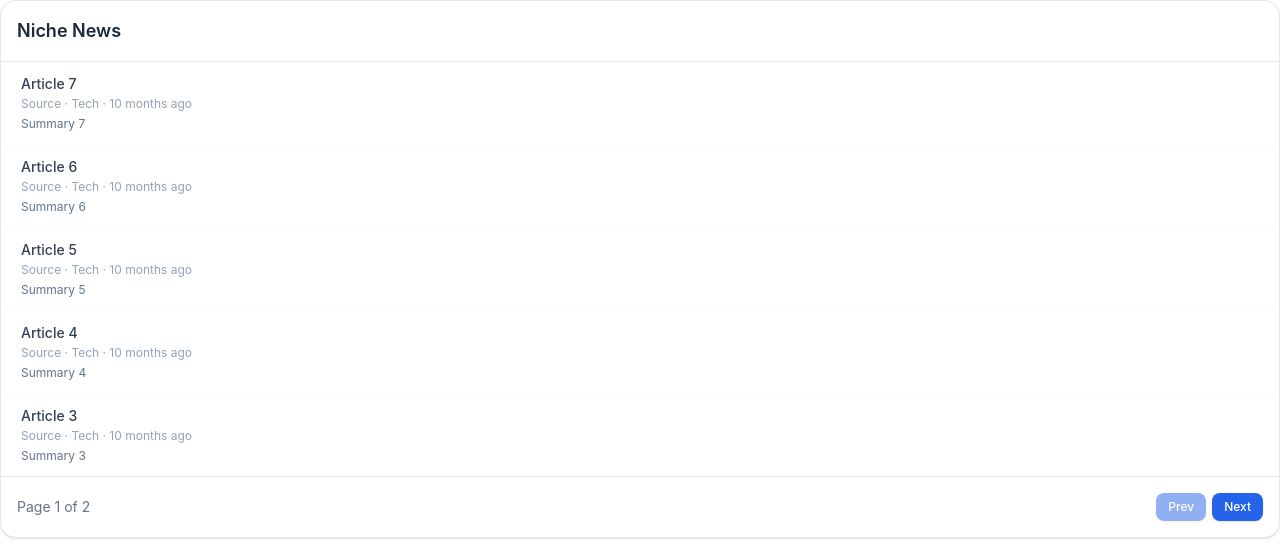
Test: NicheNewsBlock › pagination › shows 2 items and 'Page 2 of 2' after clicking Next
Click the button "Next" at [1238, 507], box x1=1212 y1=493 x2=1263 y2=521
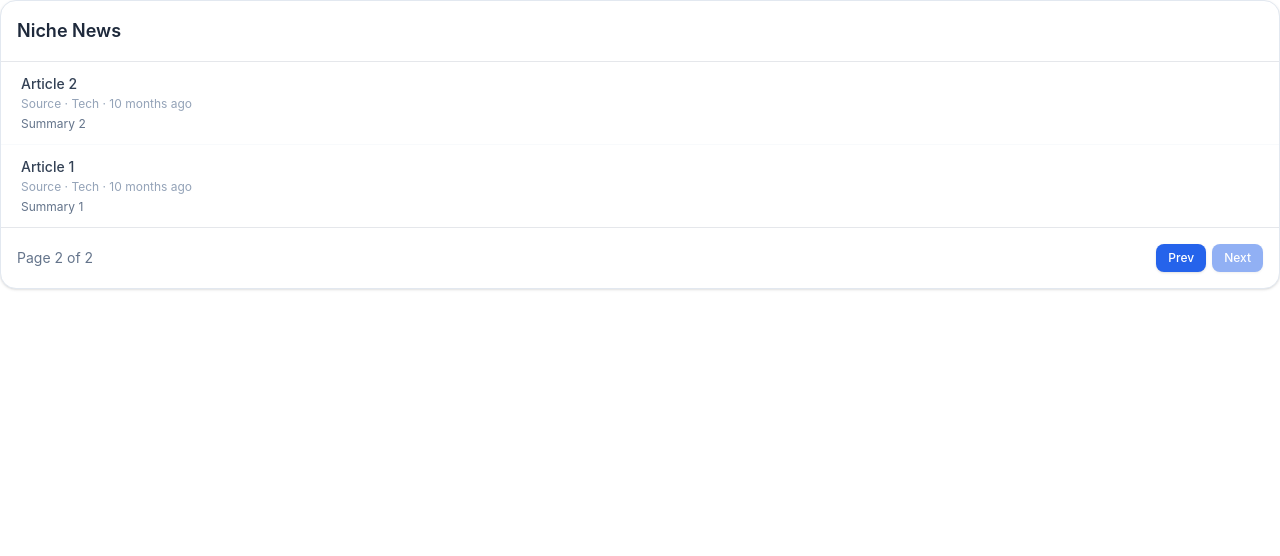
Now the text "Article 2" is shown 2 times, box x1=21 y1=75 x2=77 y2=92; x1=21 y1=158 x2=74 y2=175
Now the text "Page 2 of 2" is shown, box x1=17 y1=248 x2=93 y2=268
